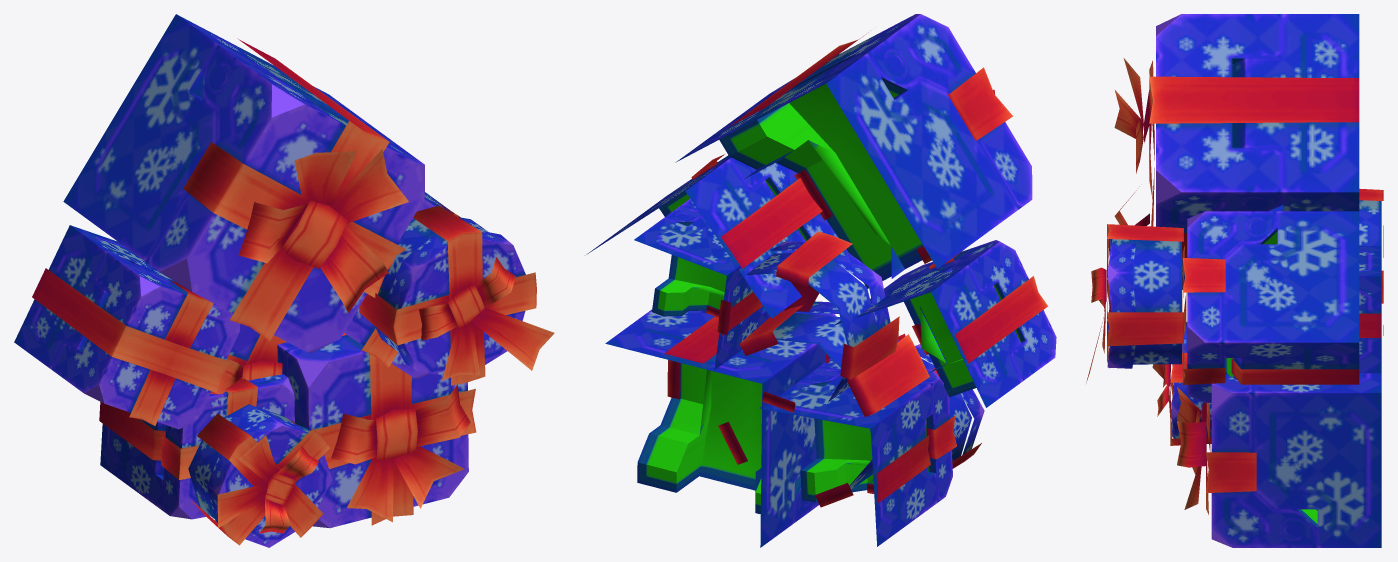
Rendered from compound_pile-red.glb.
The picture shows the model from 3 angles, left to right: view 1: azimuth 30°, elevation 25°; view 2: azimuth 150°, elevation 25°; view 3: azimuth 270°, elevation 25°; orthographic projection. The views are drawn at different scales.
Parts seen in each view (by area): view 1: winterbox.model_pile-Mesh[1] (×2), winterbox.model_pile-Mesh[0] (×2); view 2: winterbox.model_pile-Mesh[1] (×2), winterbox.model_pile-Mesh[0] (×2); view 3: winterbox.model_pile-Mesh[1] (×2), winterbox.model_pile-Mesh[0] (×2).
Part boxes in pixels (x1,y1,x2,y2): winterbox.model_pile-Mesh[1] (×2): [63, 14, 476, 528]; winterbox.model_pile-Mesh[0] (×2): [14, 205, 554, 547]; winterbox.model_pile-Mesh[1] (×2): [586, 14, 1032, 547]; winterbox.model_pile-Mesh[0] (×2): [634, 199, 1056, 468]; winterbox.model_pile-Mesh[1] (×2): [1114, 14, 1383, 547]; winterbox.model_pile-Mesh[0] (×2): [1086, 224, 1381, 445].
Size of the model in its own units: 3.79 by 4.25 by 2.59.
Materials: 1 (1 with a texture image).
